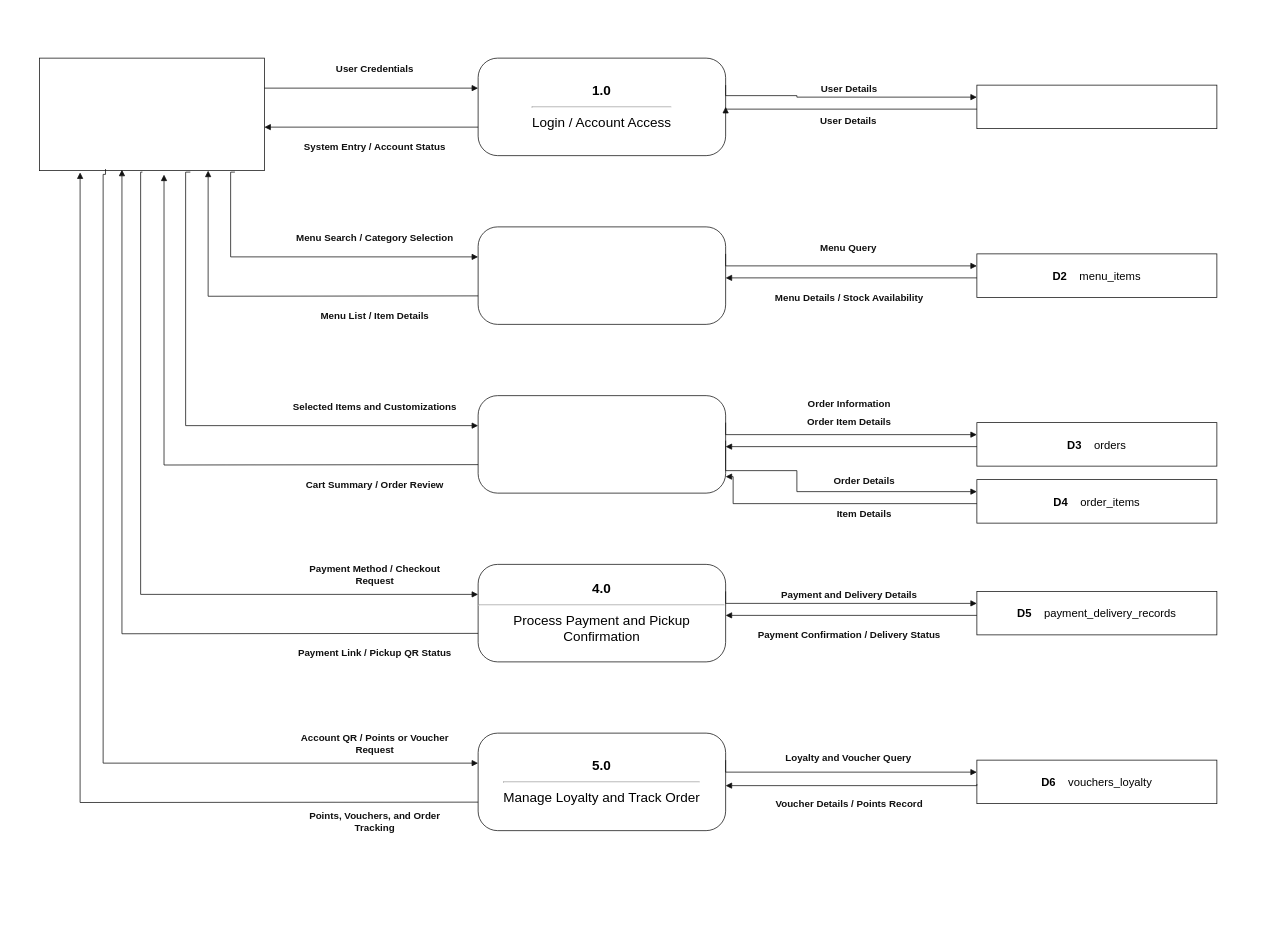
Some shapes in this 1286 by 941 pixel diagram are drawn without their labels. The centre of each missing label's shape, as x and y in pixels:
2.0 Browse Menu: point 601,275
3.0 Create Customer Order: point 601,444
CUSTOMER: point 151,114
D1 profiles: point 1096,106
